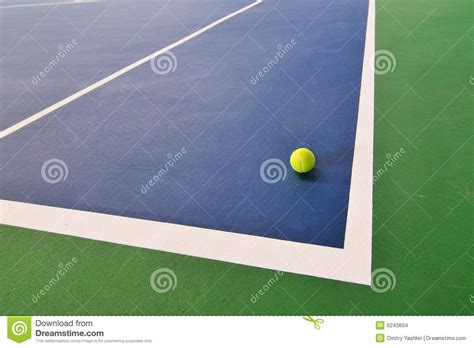tennis_ball: (290, 148, 315, 173)
